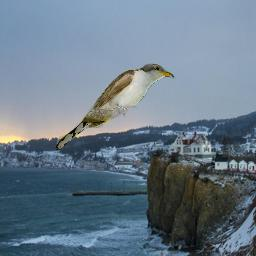Cuckoo: (53, 62, 177, 151)
